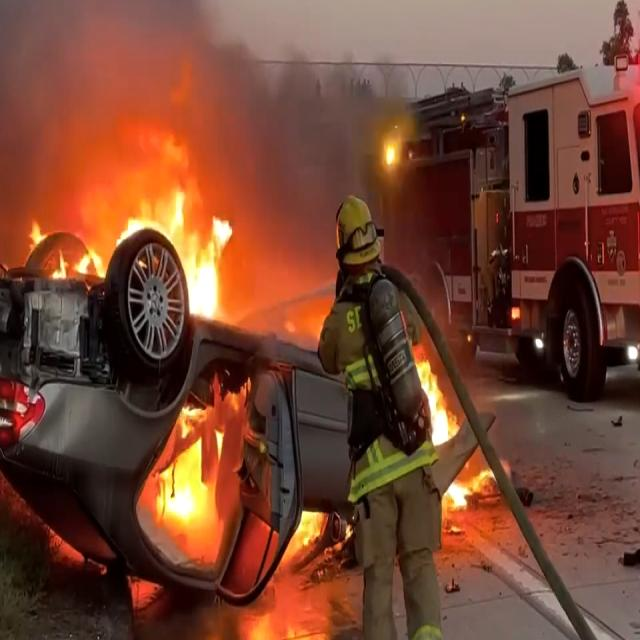fire: (121, 176, 242, 332)
smoke: (0, 0, 310, 179)
